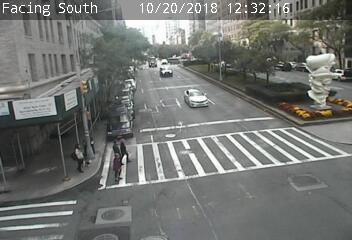car: (184, 89, 208, 106), (160, 67, 174, 77)
